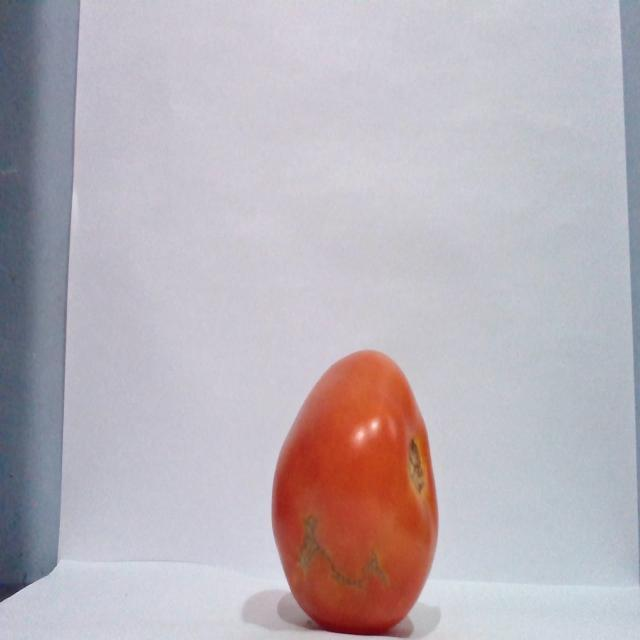Red: (269, 347, 439, 634)
